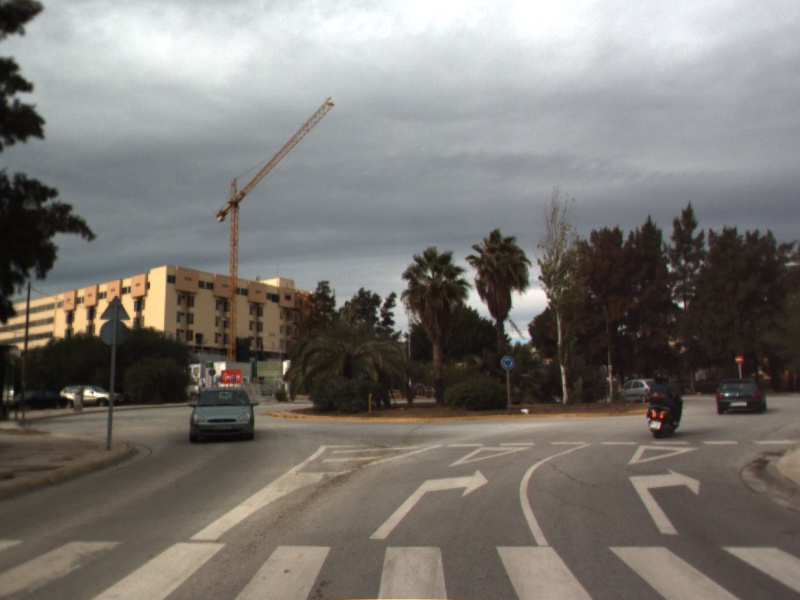RIGHT: (367, 467, 491, 541), (626, 466, 703, 537)
